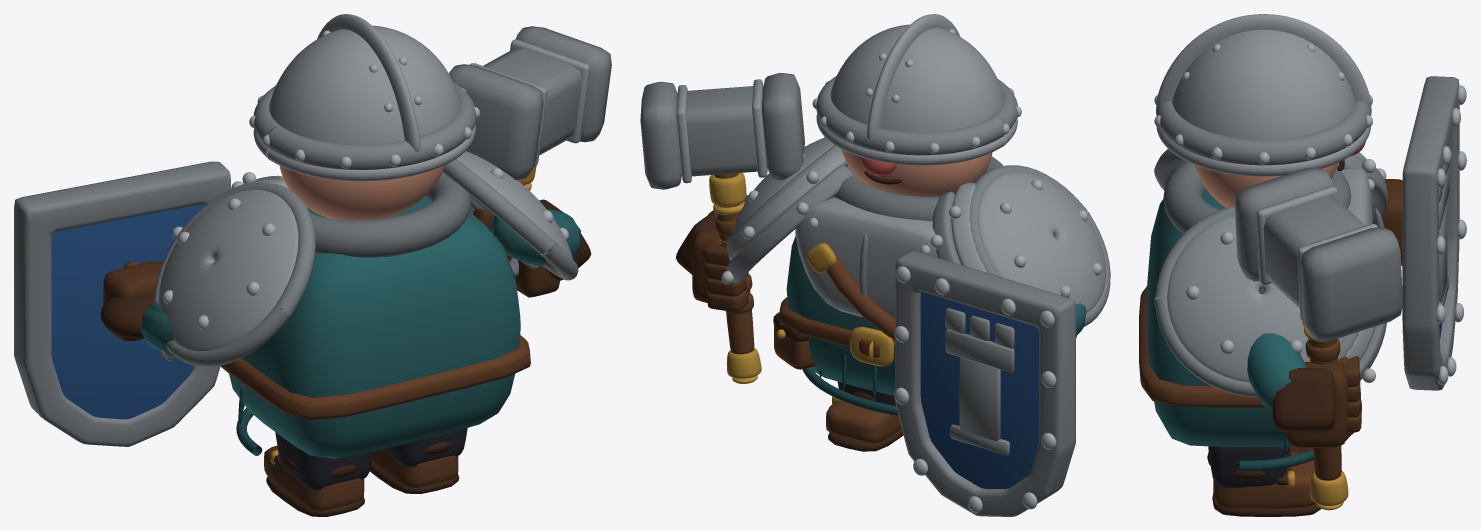
The model's file is heavy_detail.glb.
3 renders of one model, left to right at view 1: azimuth 30°, elevation 25°; view 2: azimuth 150°, elevation 25°; view 3: azimuth 270°, elevation 25°, orthographic. The views are drawn at different scales.
Visible parts, largest first — view 1: Detail; view 2: Detail; view 3: Detail.
Part boxes in pixels (x1=…): Detail: x1=14, y1=14, x2=611, y2=516; Detail: x1=640, y1=14, x2=1110, y2=516; Detail: x1=1139, y1=14, x2=1466, y2=516.
Bounding box in the file's own units: 1.66 × 1.4 × 0.886.
